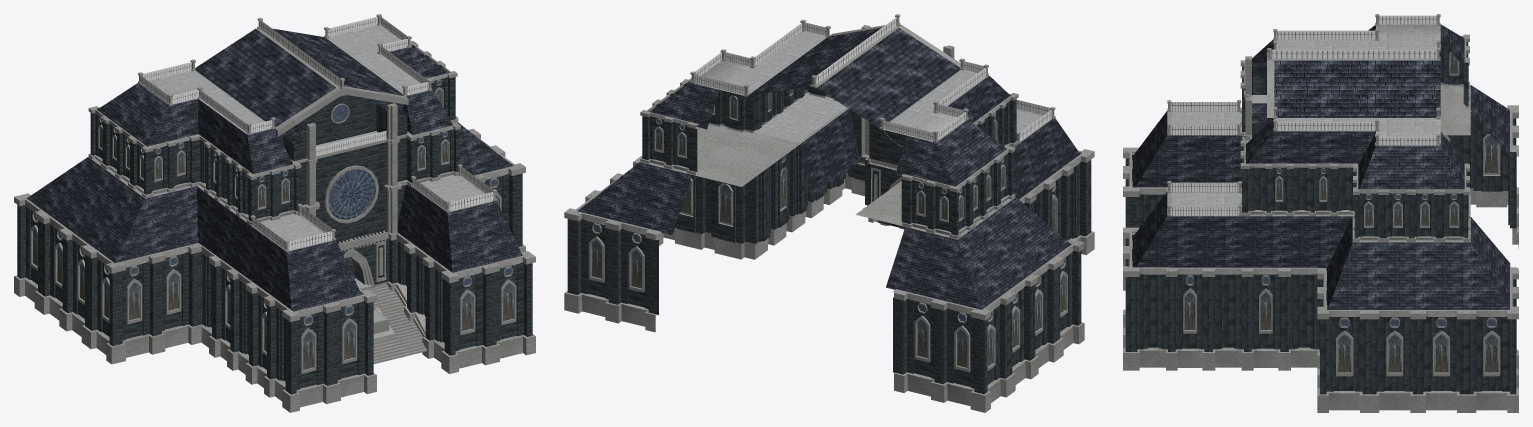
File: biblioteca exterior geo.FBX
3 views of the same model, side by side, from view 1: azimuth 30°, elevation 25°; view 2: azimuth 150°, elevation 25°; view 3: azimuth 270°, elevation 25° (orthographic). The views are drawn at different scales.
Parts seen in each view (by area): view 1: Biblioteca; view 2: Biblioteca; view 3: Biblioteca.
Part boxes in pixels (left/top/right/bottom): Biblioteca: left=14, top=14, right=535, bottom=412; Biblioteca: left=564, top=14, right=1094, bottom=412; Biblioteca: left=1123, top=14, right=1518, bottom=412.
Size of the model in its own units: 152 by 88.24 by 122.
